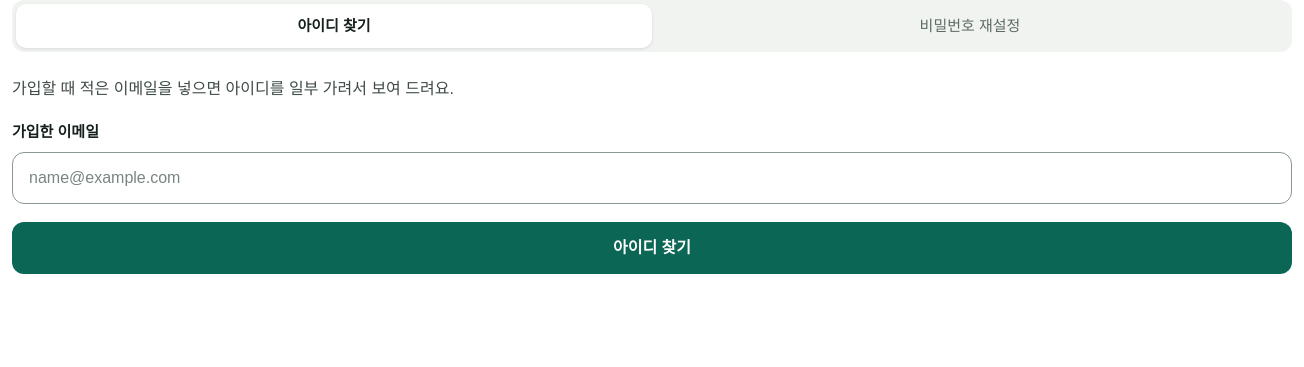
Test: AccountRecoveryForm — 아이디 찾기 (이메일 → 화면에 바로) › TEST-FIND-UI-003: {"status":"rate_limited"} 응답을 알아듣기 쉬운 문장으로 알린다
Type "a@example.com" into the field labelled "가입한 이메일".
click(652, 178); type("a@example.com")  # box [29,166,1275,190]
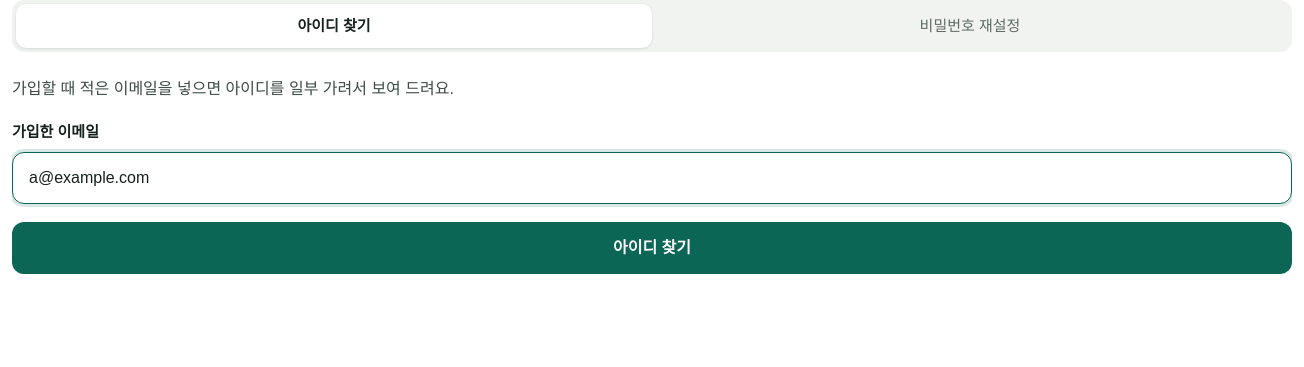
Click the button "아이디 찾기".
click(652, 248)  # box [12,222,1292,274]
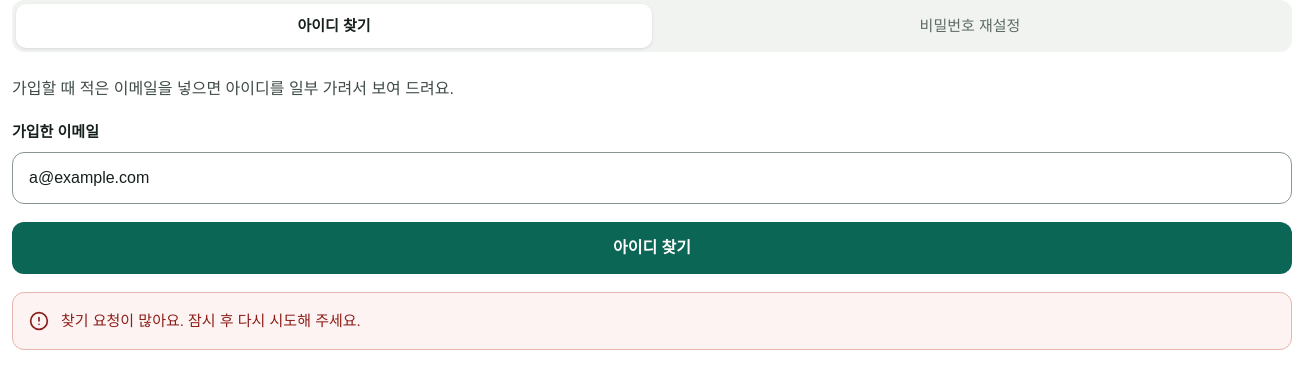
Now the message shows "찾기 요청이 많아요.", box [61,312,361,329]
